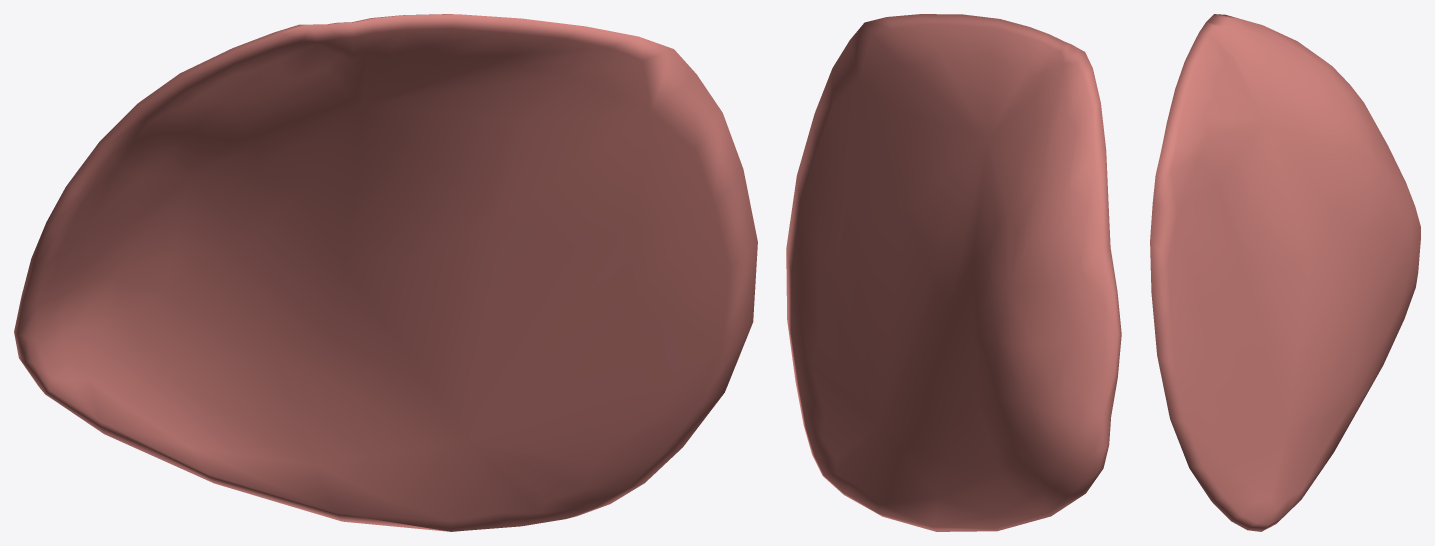
The picture shows the model from 3 angles, left to right: view 1: azimuth 30°, elevation 25°; view 2: azimuth 150°, elevation 25°; view 3: azimuth 270°, elevation 25°; orthographic projection. The views are drawn at different scales.
Visible parts, largest first — view 1: ZA_578bb58ee7efcc2f; view 2: ZA_578bb58ee7efcc2f; view 3: ZA_578bb58ee7efcc2f.
Part boxes in pixels (bbox=[...]): ZA_578bb58ee7efcc2f: bbox=[14, 14, 757, 531]; ZA_578bb58ee7efcc2f: bbox=[786, 14, 1121, 531]; ZA_578bb58ee7efcc2f: bbox=[1150, 14, 1420, 531].
Bounding box in the file's own units: 0.0128 × 0.0128 × 0.00744.
